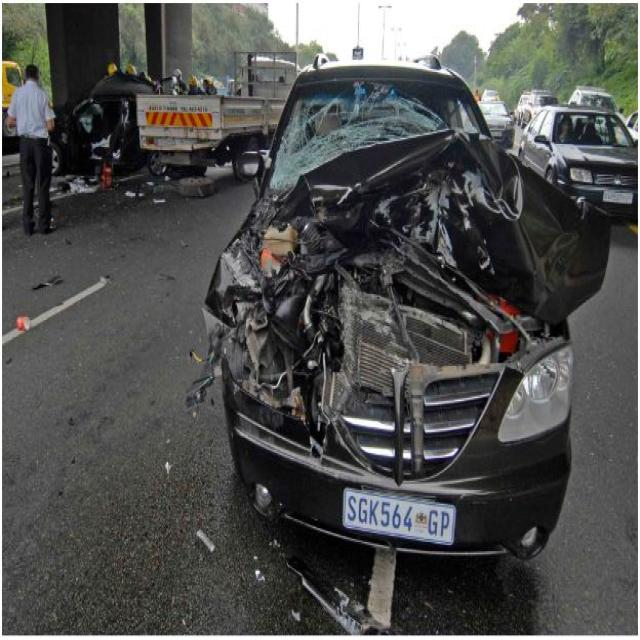crush: (183, 76, 612, 486)
